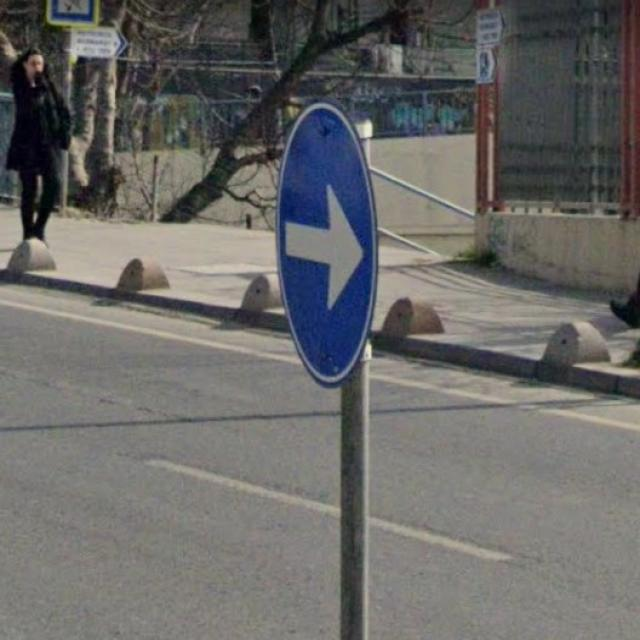Turn Right: (275, 107, 379, 398)
